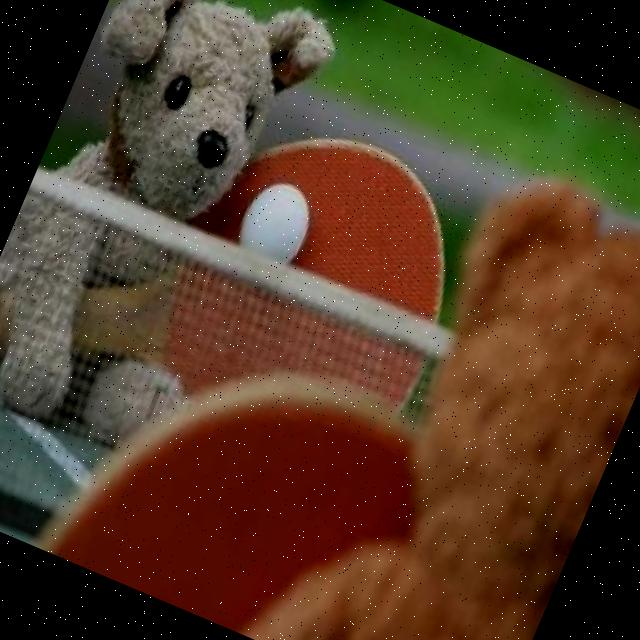ping-pong-ball: (230, 174, 321, 274)
